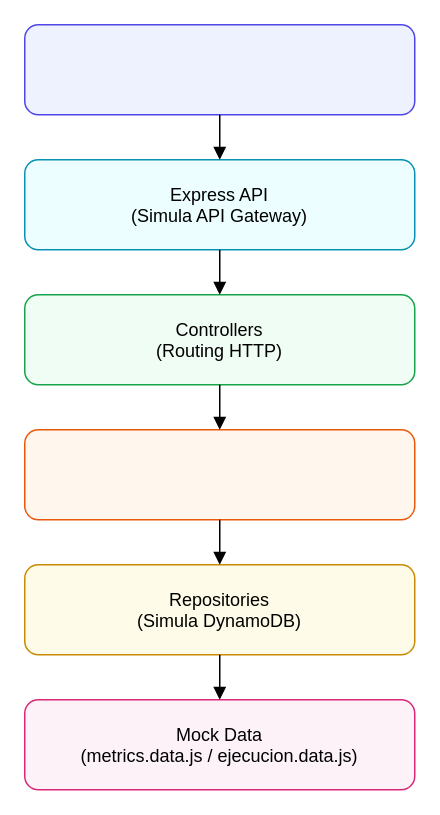
Some shapes in this 440 by 815 pixel diagram are drawn without their labels. Each missing label, with the centre of its shape:
"Angular Frontend (Dashboards + UX)" goes at [219,69].
"Services (Lógica negocio / Lambda)" goes at [219,474].
